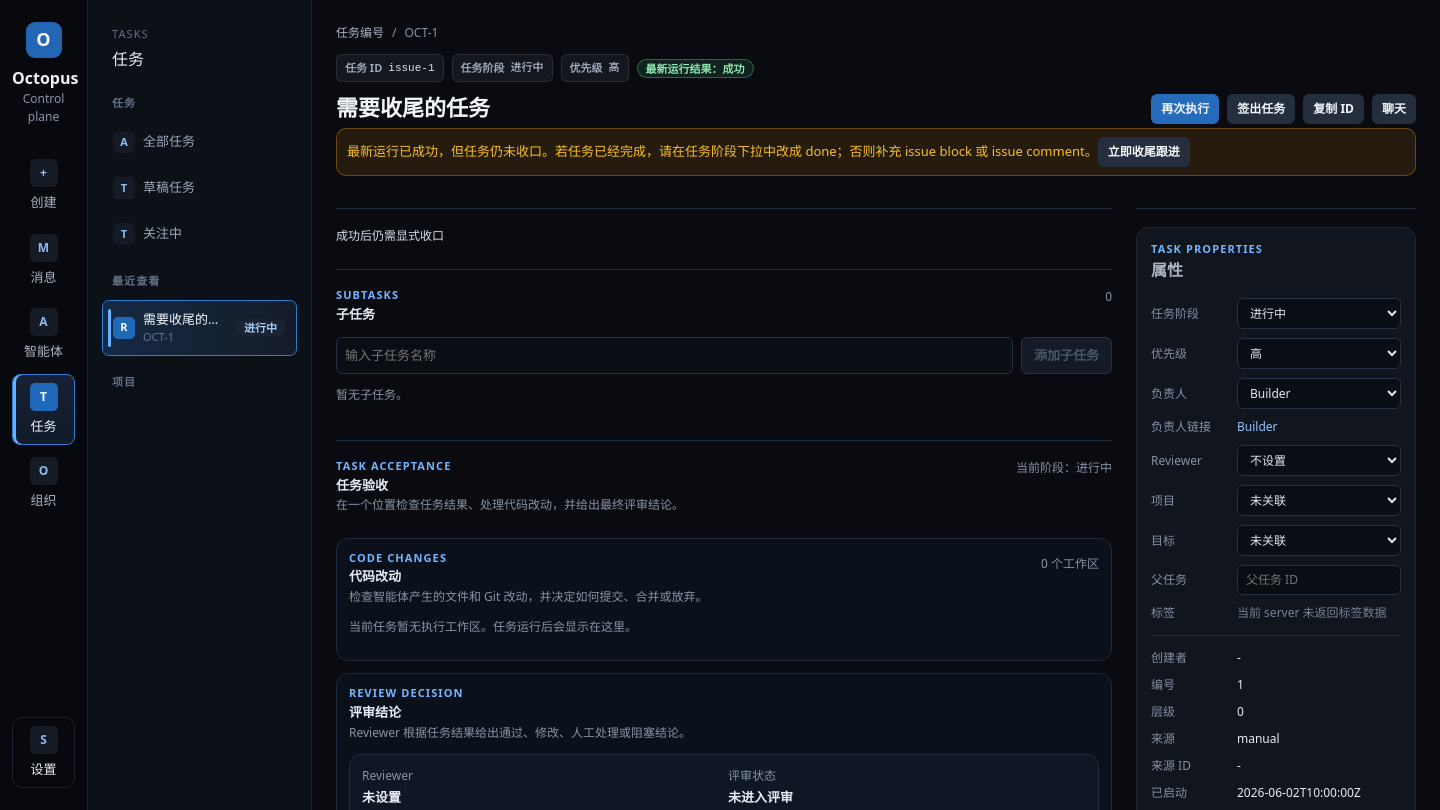
Test: prompts for explicit closeout when the latest run succeeded without a closeout signal
The width and height of the screenshot is (1440, 810).
Expected: the message named "需要收尾" shows "最新运行已成功，但任务仍未收口", [347, 142, 1098, 160]
Expected: the message named "需要收尾" shows "任务阶段下拉", [347, 142, 1098, 160]
Click the button "立即收尾跟进" at (1144, 152), box [1098, 137, 1190, 167]
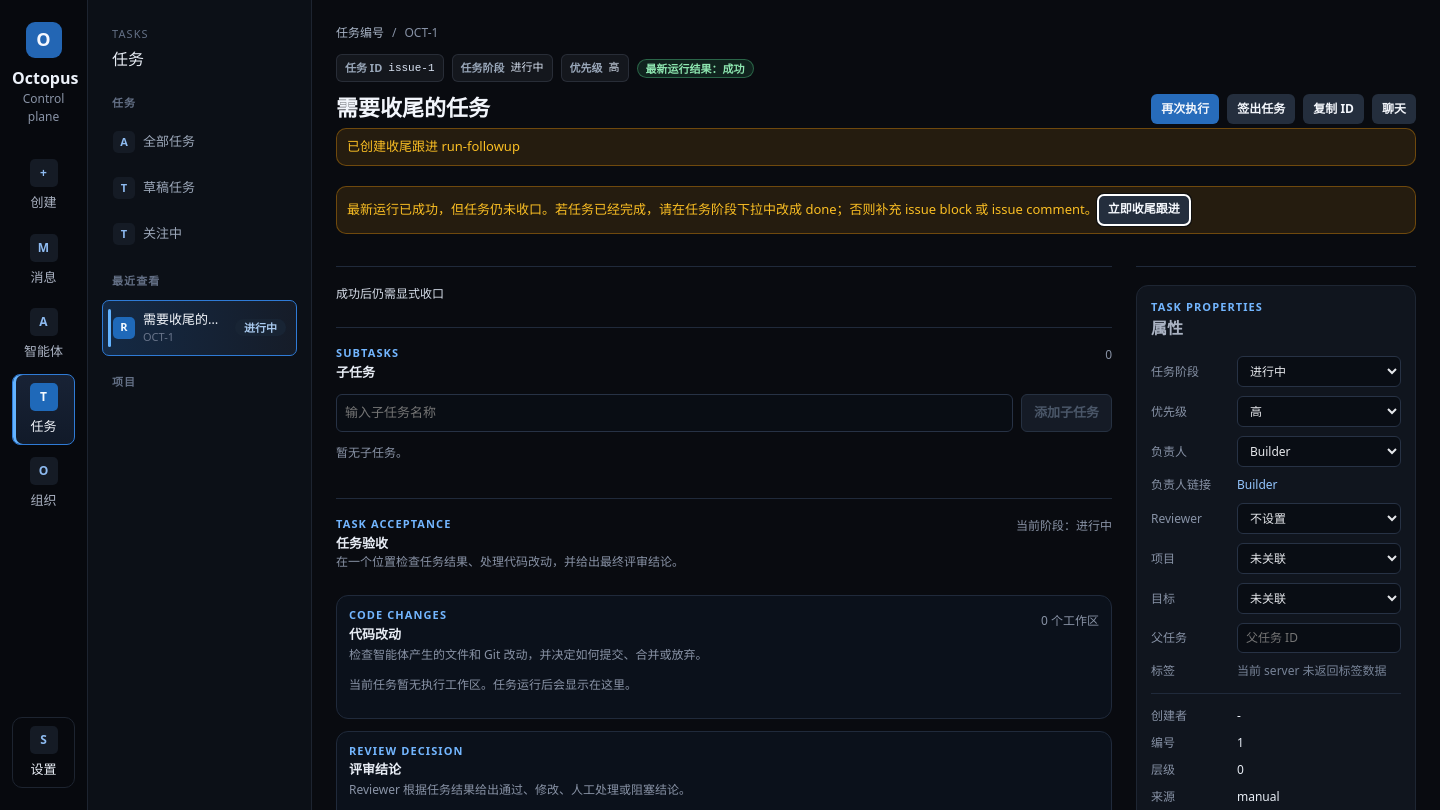
Result: the text "已创建收尾跟进 run-followup" is shown at [336, 128, 1416, 166]
